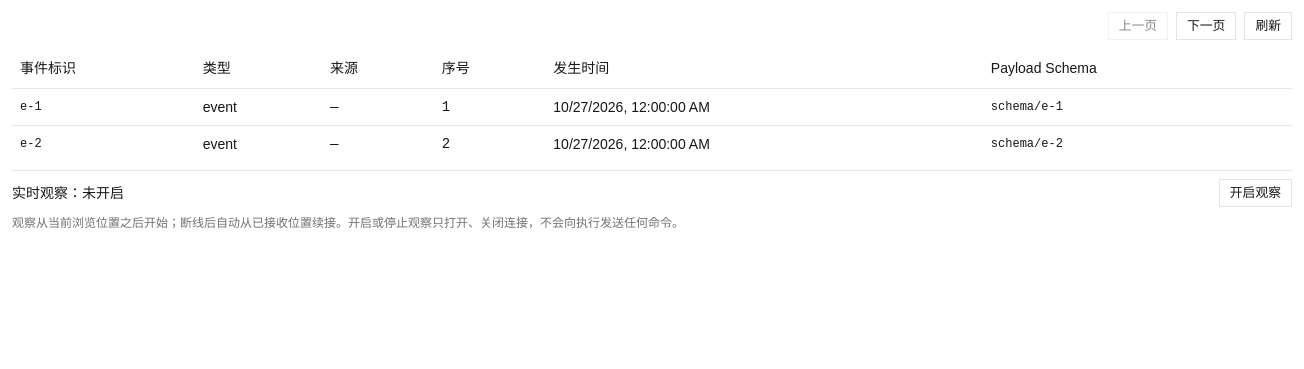
Scenario: RunEventsPanel live observation › ends observation on the platform terminal schema without reconnecting
Expected: the text "e-1" is shown, [12, 88, 195, 125]
Click the button with test id "live-start".
click(1255, 192)  # box [1219, 178, 1292, 206]
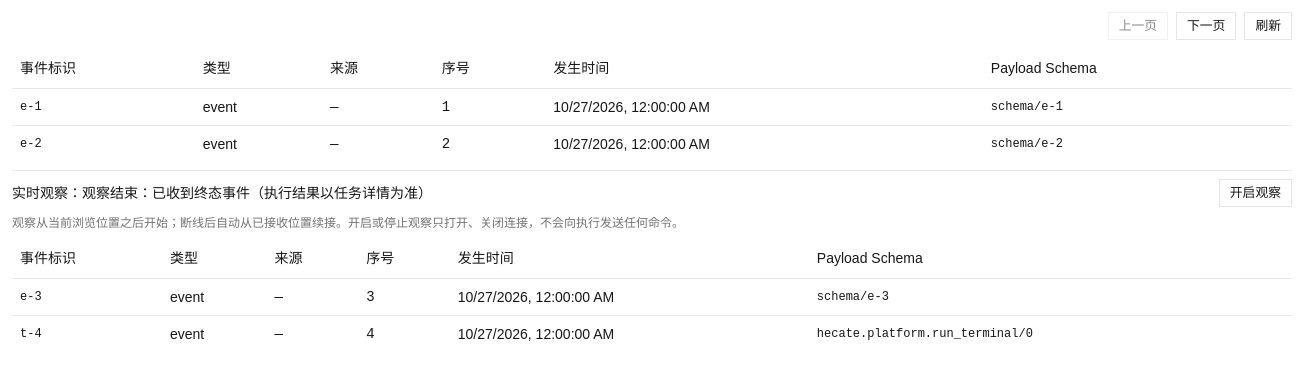
Expected: the text "t-4" is shown, [12, 316, 162, 352]
Expected: the text with test id "live-status" shows "观察结束", [82, 184, 432, 200]
Expected: the text with test id "live-status" shows "以任务详情为准", [82, 184, 432, 200]
